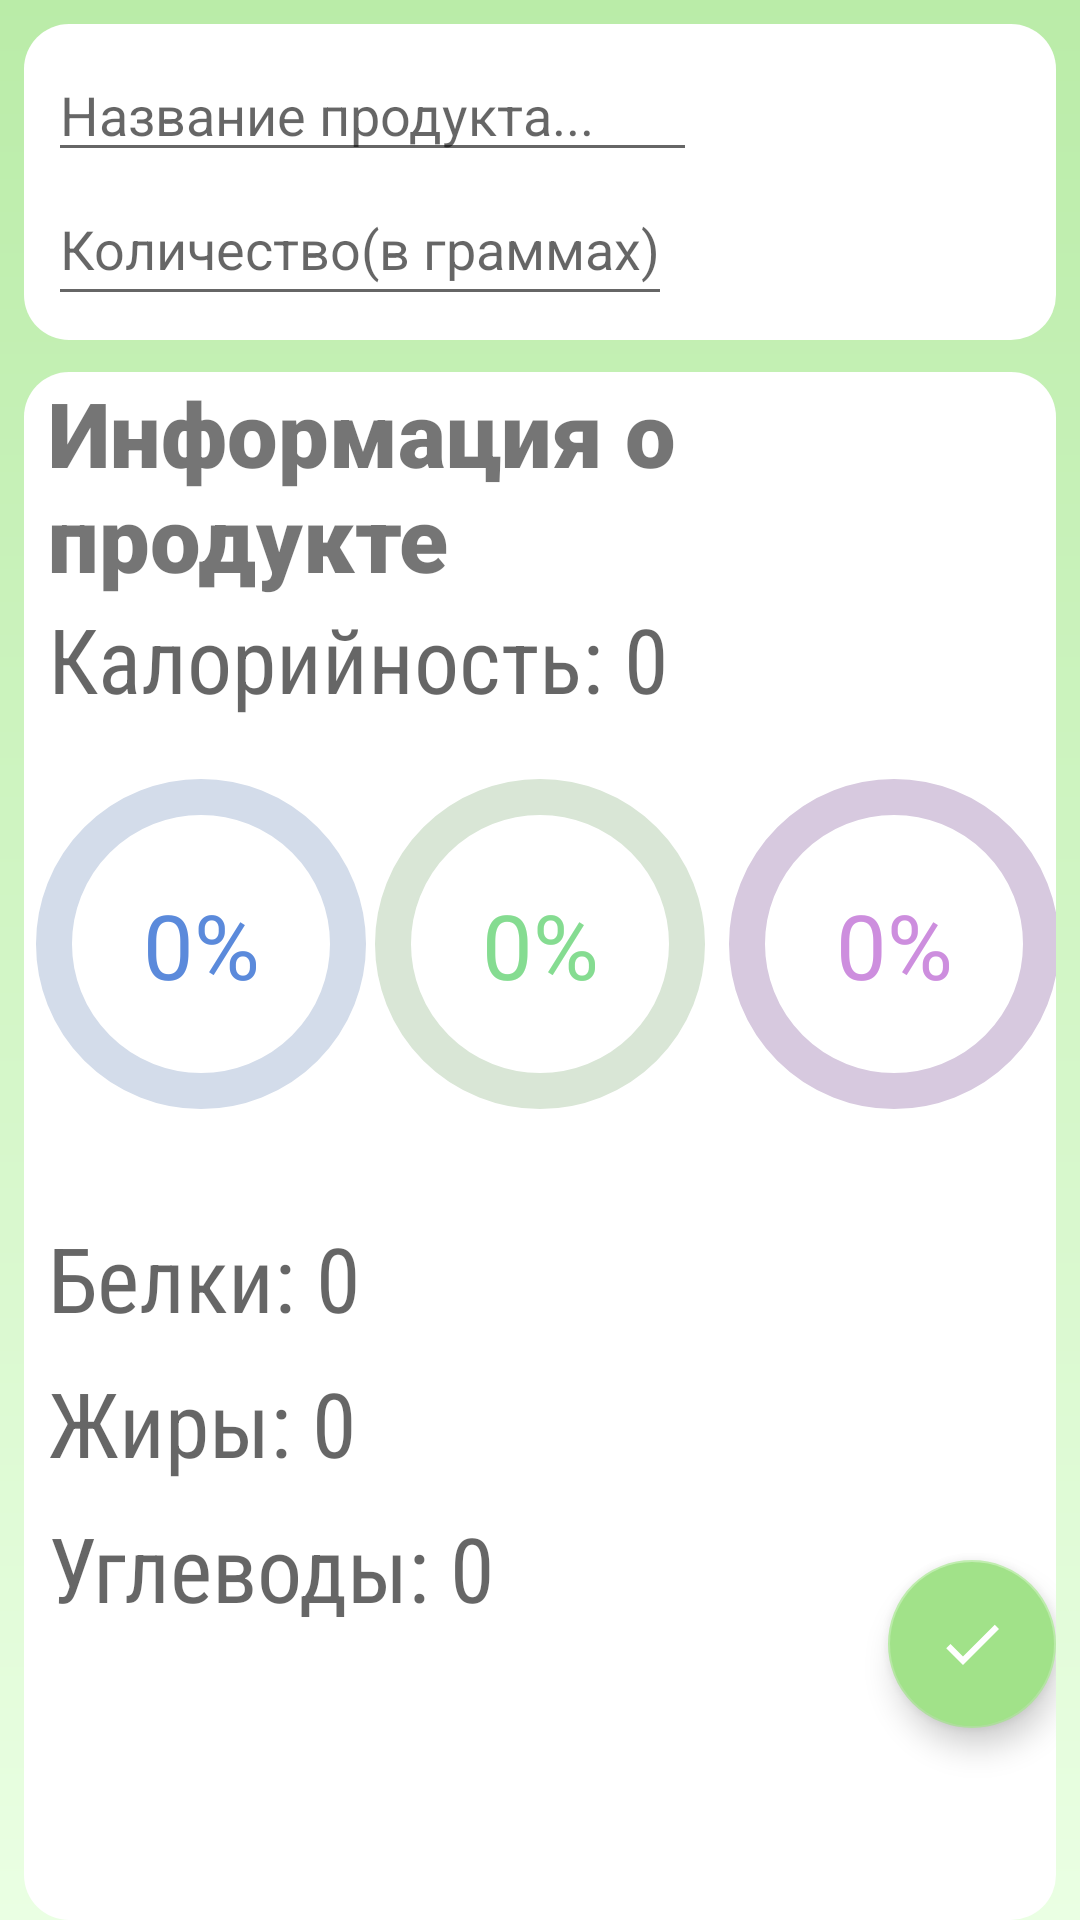

Icons on this 1080x1920 Android screen, each with the point to tap as [x,y]:
check: [972,1644]
